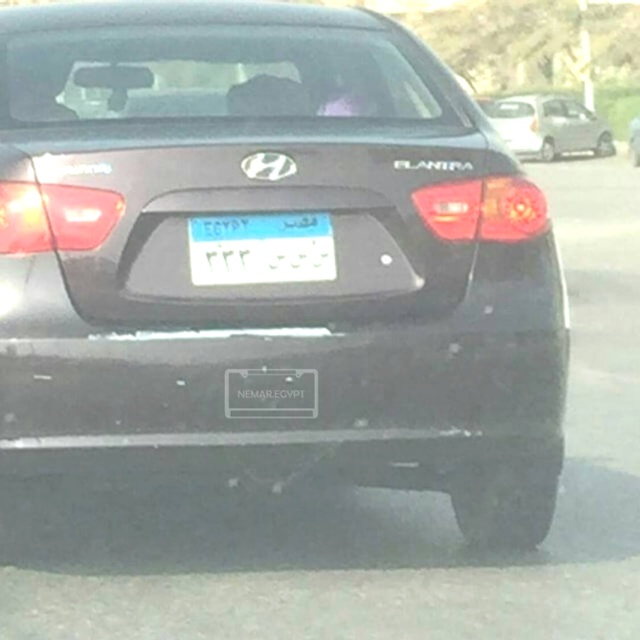License Plate: (183, 207, 341, 289)
